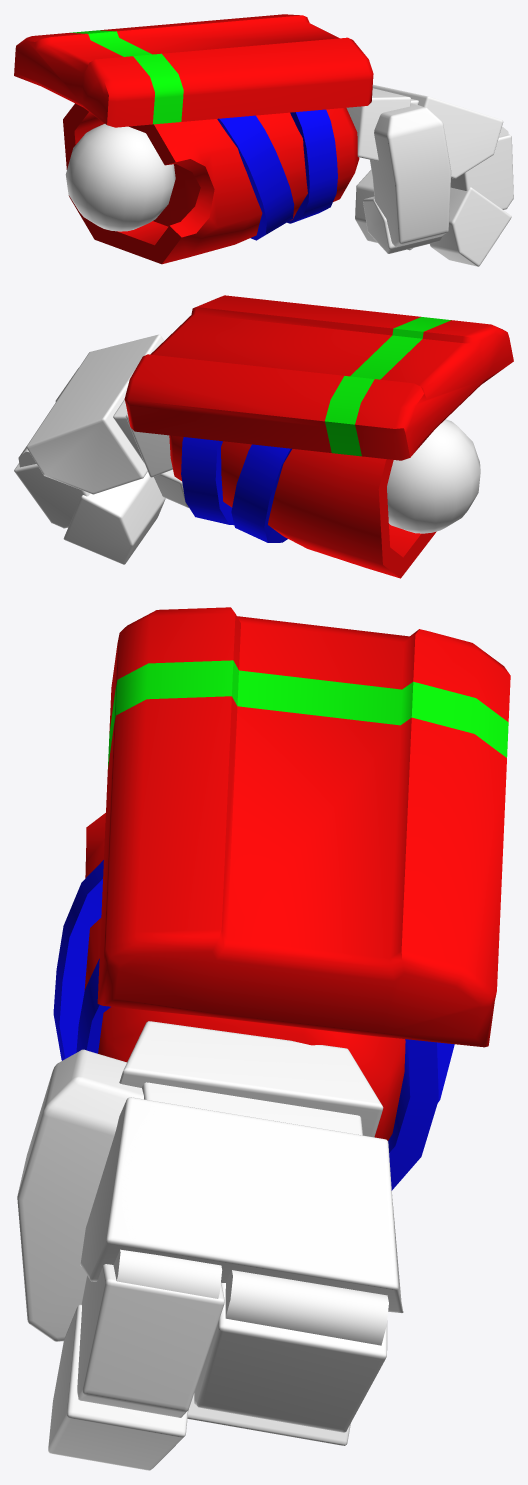
The model's file is Ronin_LowerArm.fbx.
3 views of the same model, one above another, from view 1: azimuth 30°, elevation 25°; view 2: azimuth 150°, elevation 25°; view 3: azimuth 270°, elevation 25° (orthographic). The views are drawn at different scales.
Visible parts, largest first — view 1: Samurai_LowerArm; view 2: Samurai_LowerArm; view 3: Samurai_LowerArm.
Part boxes in pixels (x1=…): Samurai_LowerArm: x1=14, y1=14, x2=513, y2=266; Samurai_LowerArm: x1=14, y1=295, x2=513, y2=578; Samurai_LowerArm: x1=17, y1=607, x2=510, y2=1470.
Bounding box in the file's own units: 42.38 × 26.92 × 22.52.
